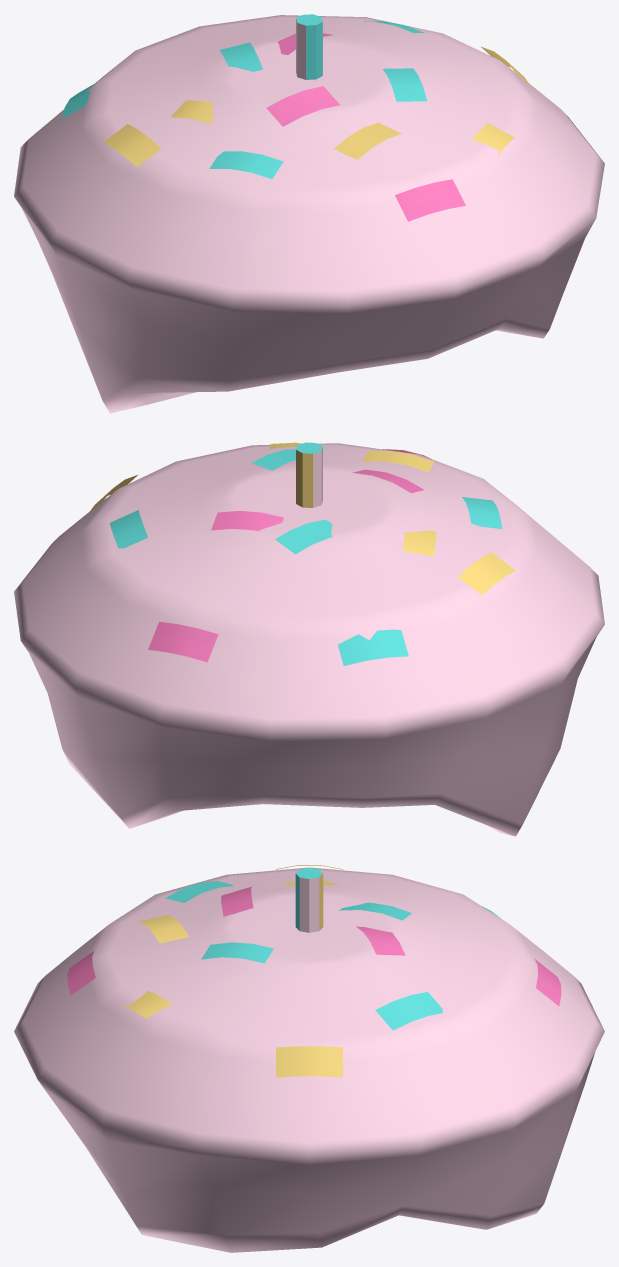
The model's file is CupcakeDrone_Asset_v01.fbx.
3 views of the same model, one above another, from view 1: azimuth 30°, elevation 25°; view 2: azimuth 150°, elevation 25°; view 3: azimuth 270°, elevation 25° (orthographic).
Visible parts, largest first — view 1: Topping; view 2: Topping; view 3: Topping.
Part boxes in pixels (bbox=[...]): Topping: bbox=[14, 14, 604, 413]; Topping: bbox=[14, 442, 604, 836]; Topping: bbox=[14, 865, 604, 1252].
Bounding box in the file's own units: 100 × 63.17 × 100.
1 material, 1 textured.
